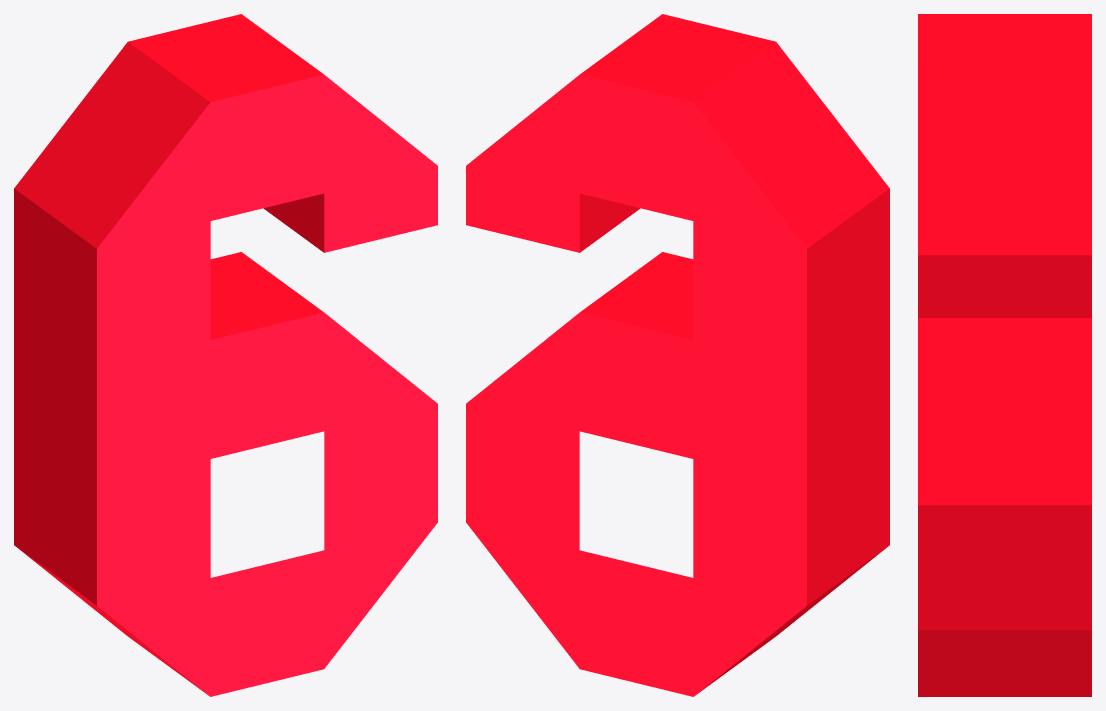
Rendered from 0086fbdb-e6cf-481c-97ca-14a7a3b54eef.glb.
3 renders of one model, left to right at view 1: azimuth 30°, elevation 25°; view 2: azimuth 150°, elevation 25°; view 3: azimuth 270°, elevation 25°, orthographic. The views are drawn at different scales.
Visible parts, largest first — view 1: 6_DeltaBlock_Red; view 2: 6_DeltaBlock_Red; view 3: 6_DeltaBlock_Red.
Boxes of the visible parts, left/top/right/bottom form: 6_DeltaBlock_Red: left=14, top=14, right=437, bottom=696; 6_DeltaBlock_Red: left=466, top=14, right=889, bottom=696; 6_DeltaBlock_Red: left=918, top=14, right=1091, bottom=696.
Size of what is drawn, in the model's own units: 0.1071 by 0.1786 by 0.045.
2 materials, 2 textured.
